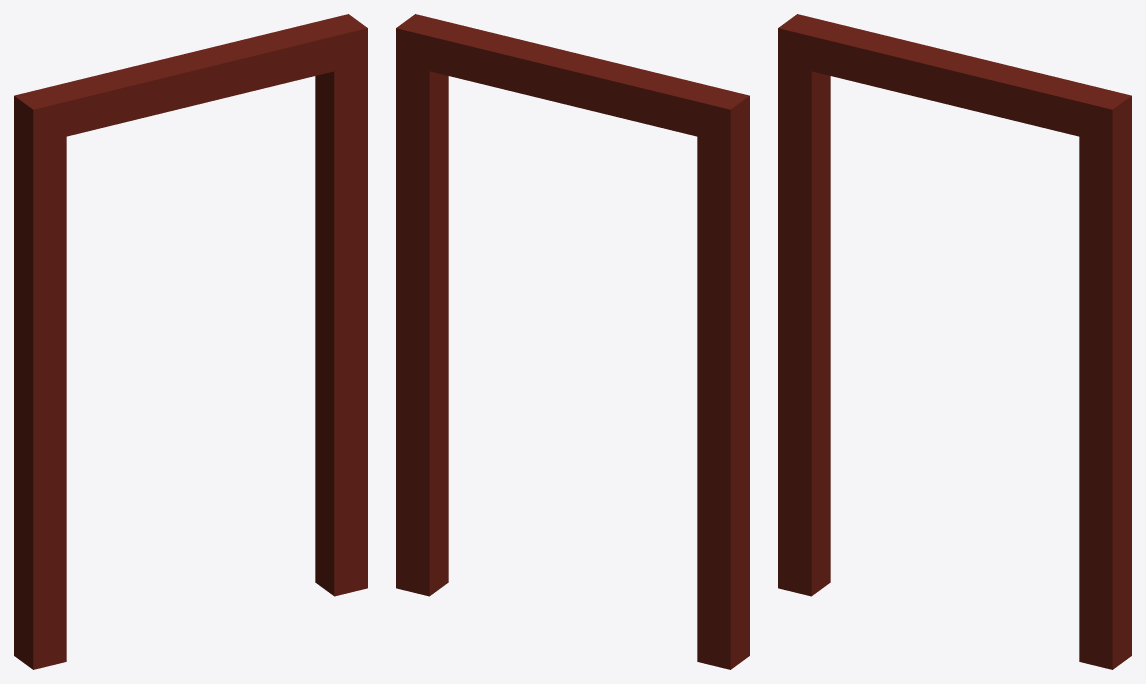
Rendered from door_frame.glb.
The picture shows the model from 3 angles, left to right: view 1: azimuth 30°, elevation 25°; view 2: azimuth 150°, elevation 25°; view 3: azimuth 330°, elevation 25°; orthographic projection.
Parts seen in each view (by area): view 1: doorframe.010; view 2: doorframe.010; view 3: doorframe.010.
Boxes of the visible parts, x1,y1,x2,y2 form: doorframe.010: [14, 14, 367, 669]; doorframe.010: [396, 14, 749, 669]; doorframe.010: [778, 14, 1131, 669].
Bounding box in the file's own units: 1 × 1.6 × 0.1.
